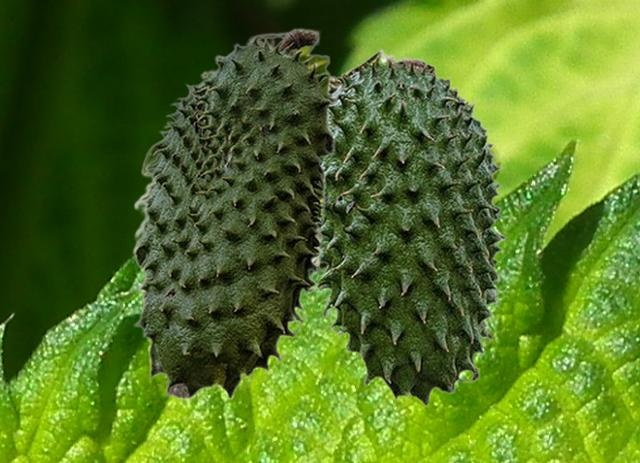guyabano: (131, 27, 337, 400), (316, 47, 507, 406)
